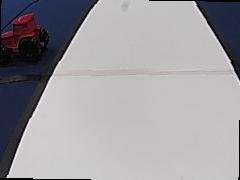Tracktor: (1, 10, 52, 63)
